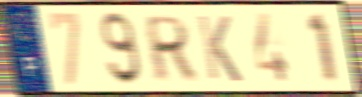1: (305, 12, 344, 85)
4: (254, 11, 292, 86)
7: (47, 10, 85, 89)
9: (99, 9, 145, 88)
K: (195, 13, 245, 85)
R: (144, 14, 198, 84)
